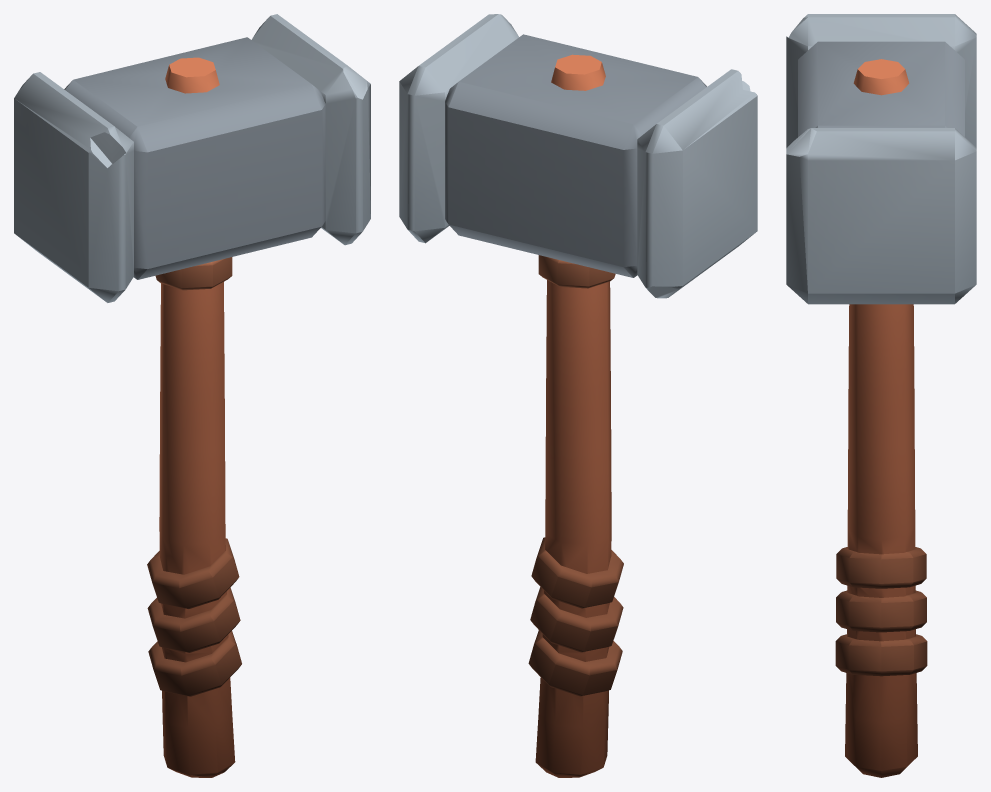
The model's file is warhammer_sledge.glb.
3 renders of one model, left to right at view 1: azimuth 30°, elevation 25°; view 2: azimuth 150°, elevation 25°; view 3: azimuth 270°, elevation 25°, orthographic.
Visible parts, largest first — view 1: Item; view 2: Item; view 3: Item.
Part boxes in pixels (x1,y1,x2,y2): Item: (14,14,370,777); Item: (399,14,757,777); Item: (786,14,976,777).
Size of the model in its own units: 0.81 by 1.93 by 0.48.
2 materials, 2 textured.
